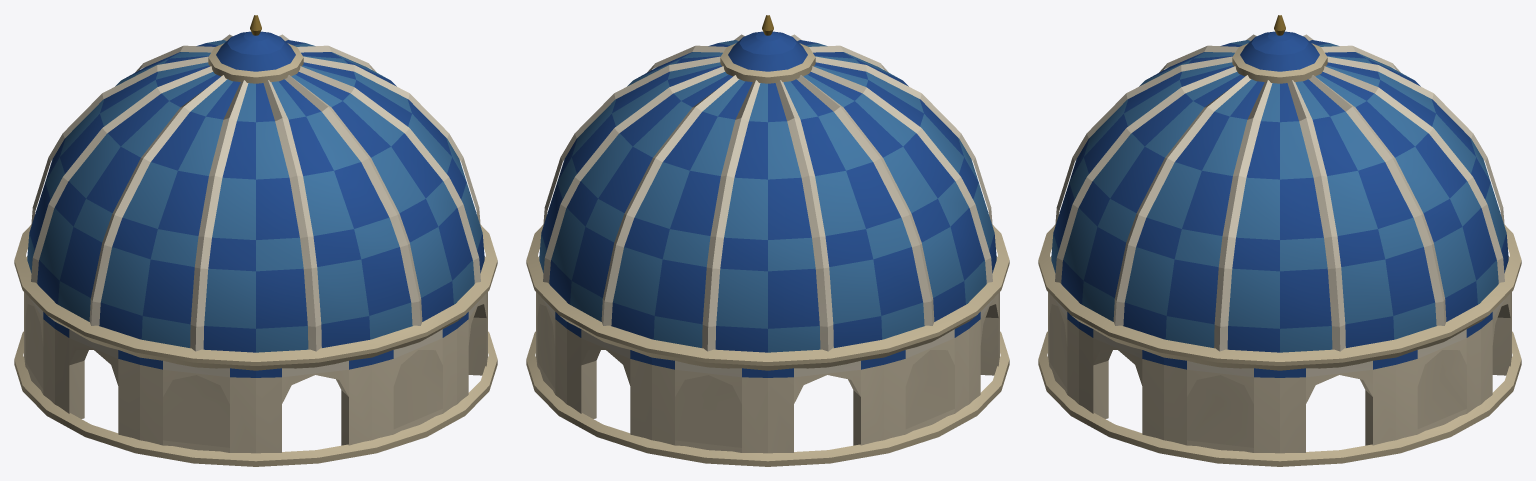
The model's file is dome.hall_12.blue.glb.
The picture shows the model from 3 angles, left to right: view 1: azimuth 30°, elevation 25°; view 2: azimuth 150°, elevation 25°; view 3: azimuth 270°, elevation 25°; orthographic projection.
Visible parts, largest first — view 1: dome_hall_12_blue; view 2: dome_hall_12_blue; view 3: dome_hall_12_blue.
Boxes of the visible parts, x1=… form: dome_hall_12_blue: x1=14, y1=15, x2=497, y2=466; dome_hall_12_blue: x1=526, y1=15, x2=1009, y2=466; dome_hall_12_blue: x1=1038, y1=15, x2=1521, y2=466.
Size of what is drawn, in the model's own units: 15.2 by 12.15 by 15.2.
